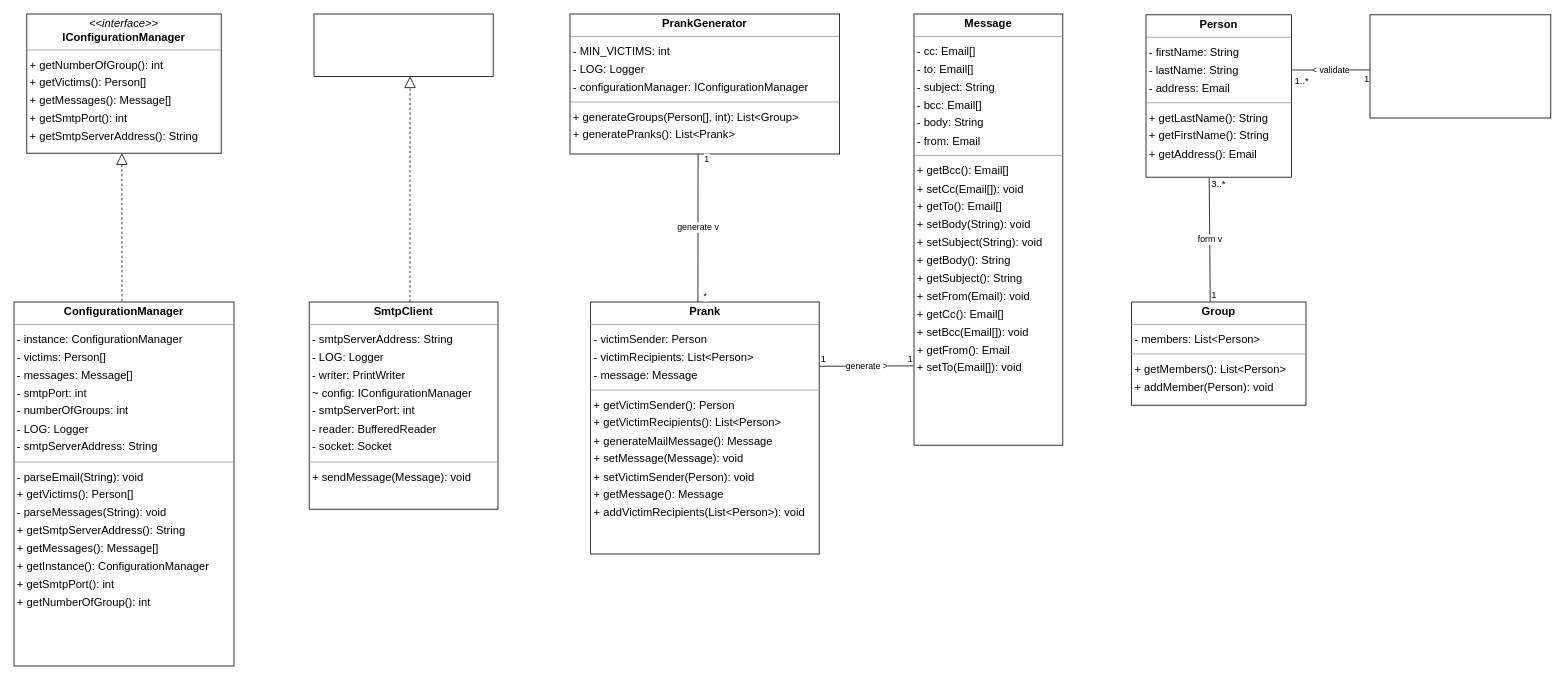
Image size: 1565x680. Some labels were removed from this diagram. The shapes that lost their labels are listed below. From the top down, each one's centre as x and y in pixels, then its label:
the point at 403,44: <<interface>> ISmtpClient + sendMessage(Message): void
the point at 1460,66: Email - email: String + toString(): String - validateEmail(String): boolean
